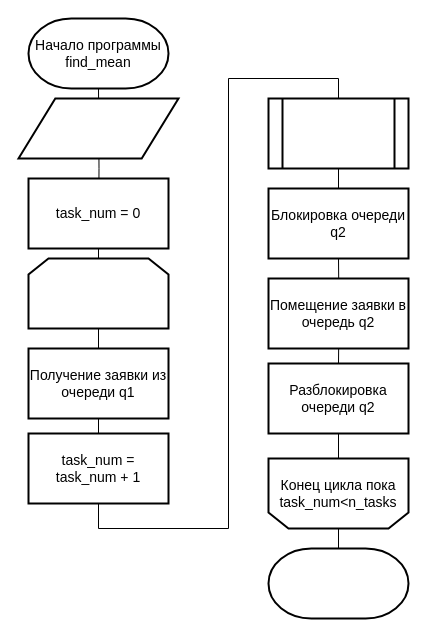
Image size: 426x636. Some labels were removed from this diagram. The shapes that lost their labels are listed below. From the top down, each one's centre as x and y in pixels, then its label:
At [98,128]: "n_tasks".
At [338,133]: "Поиск среднего значения в массиве из заявки".
At [98,293]: "Цикл пока task_num<n_tasks".
At [338,583]: "Конец программы find_mean".
